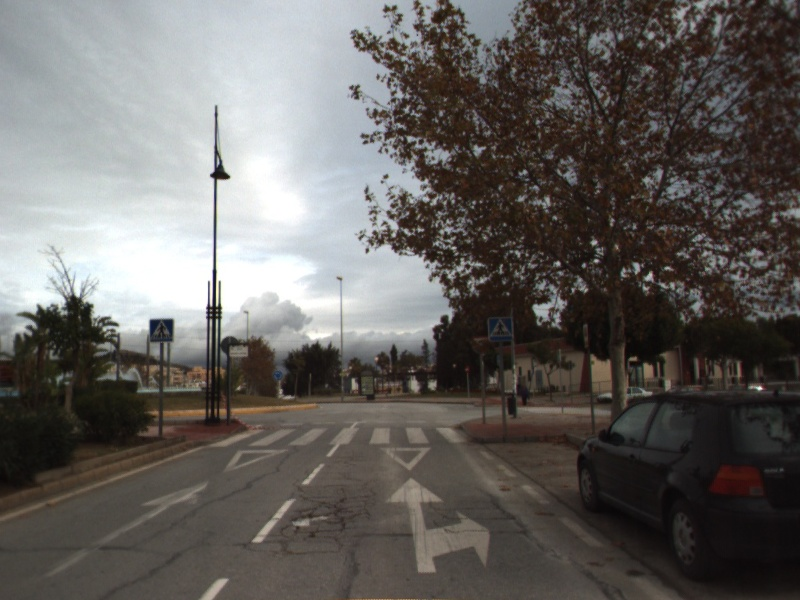STRAIGHT: (39, 477, 212, 579)
STRAIGHT_RIGHT: (382, 475, 493, 575)
